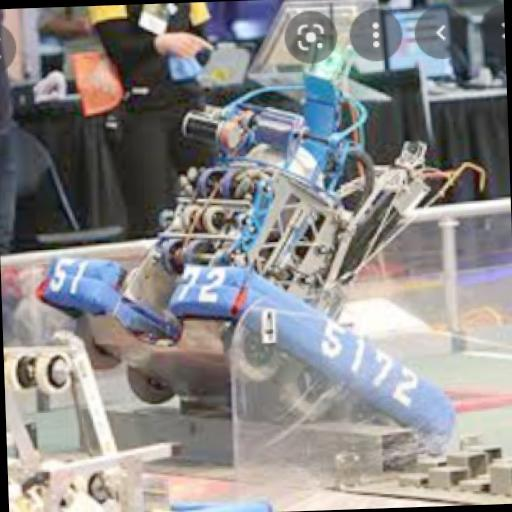robot: (29, 6, 457, 473)
